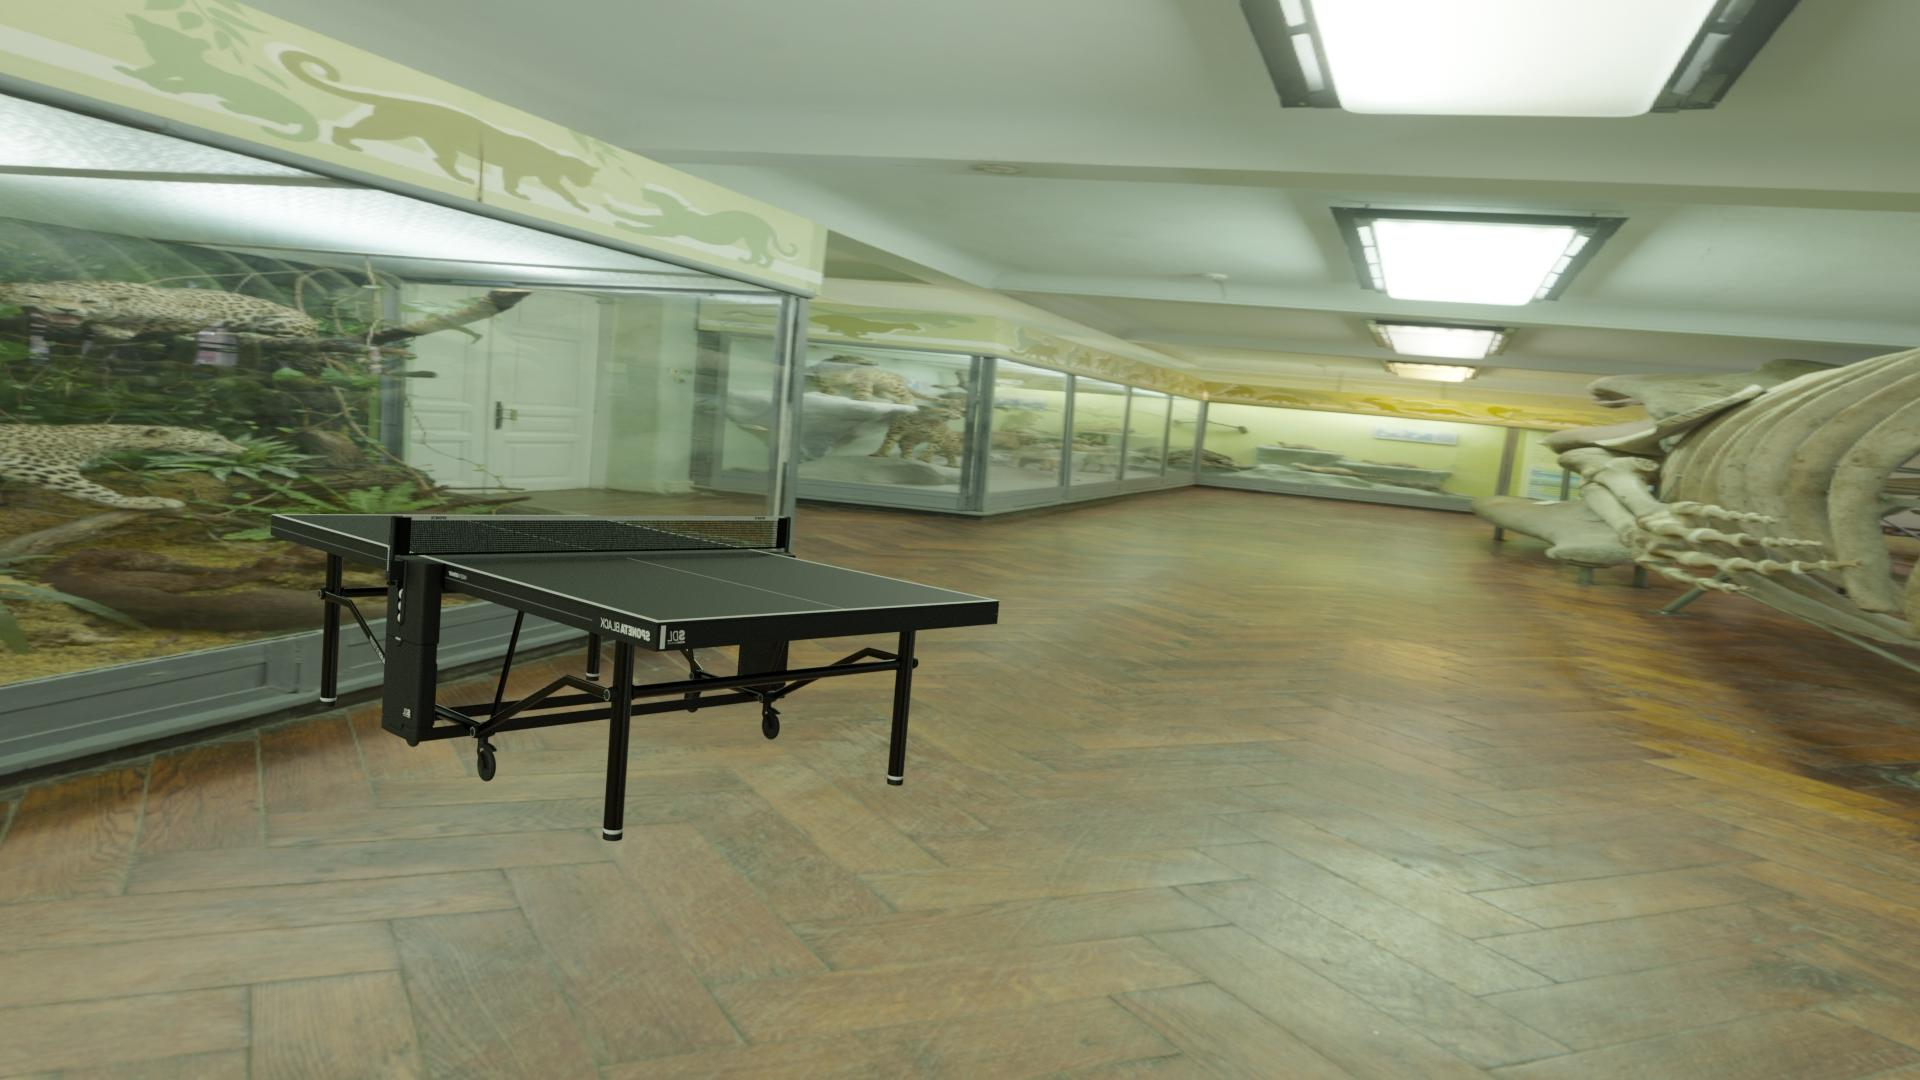table: (278, 514, 992, 621)
